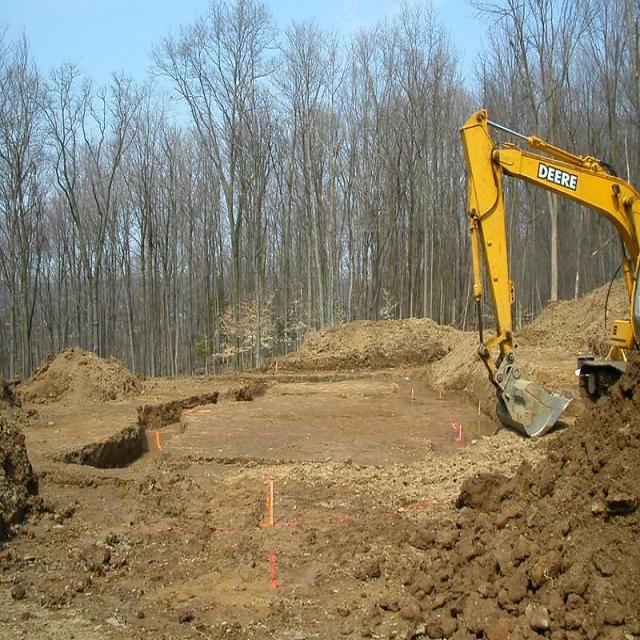Excavadora: (460, 107, 639, 440)
